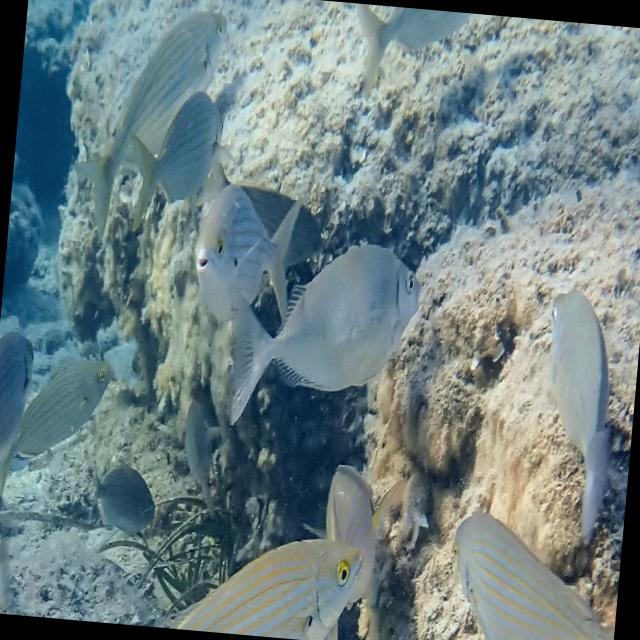Sokar Baligi: (212, 222, 430, 446), (523, 271, 640, 550), (0, 331, 121, 520)
